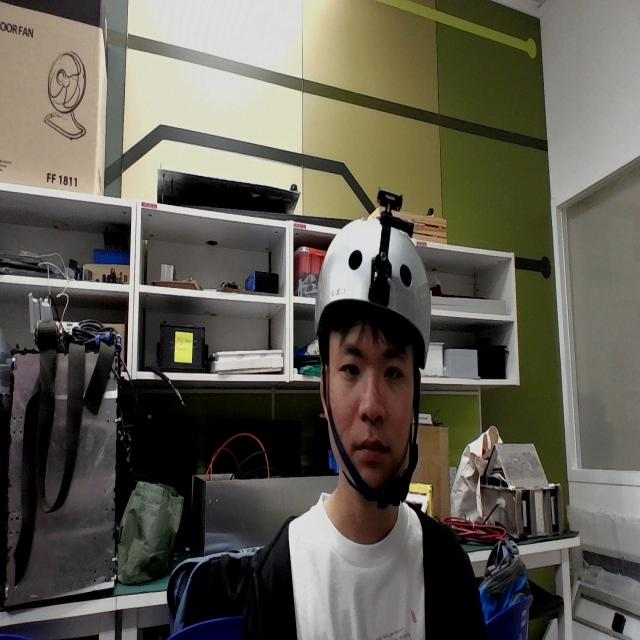With Helmet: (289, 133, 453, 564)
